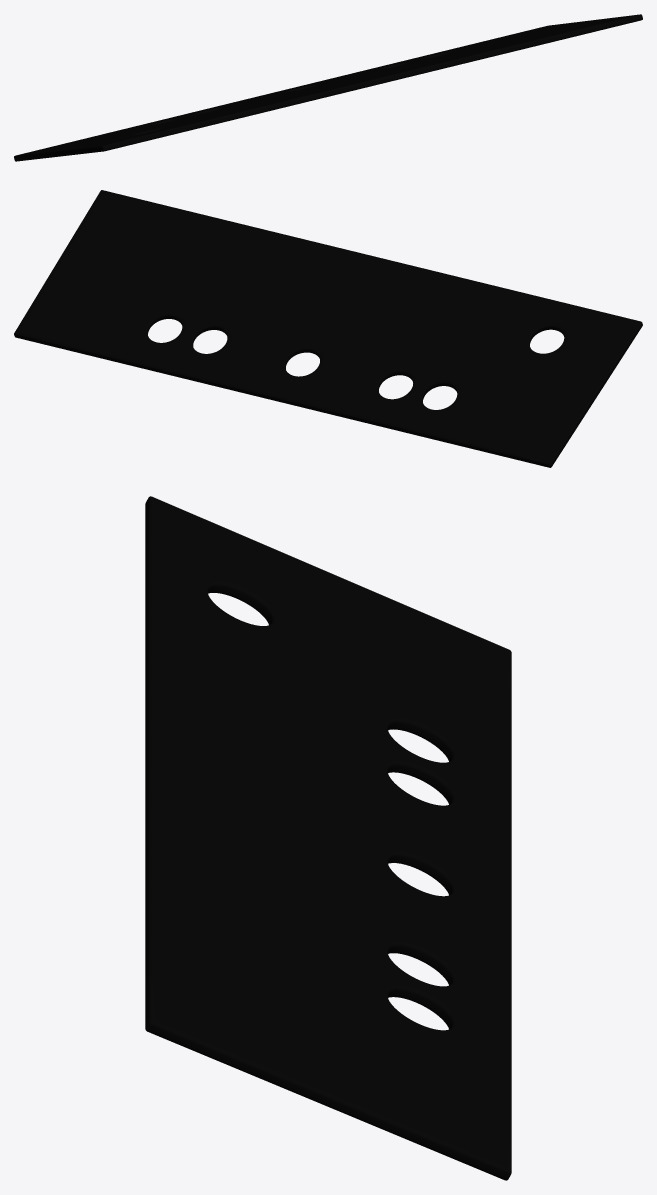
File: coffee_machine_main_group_main_model_9.obj
The picture shows the model from 3 angles, top to bottom: view 1: azimuth 30°, elevation 25°; view 2: azimuth 150°, elevation 25°; view 3: azimuth 270°, elevation 25°; orthographic projection. The views are drawn at different scales.
Size of the model in its own units: 0.6352 by 0.0912 by 0.1866.
1 material, 1 textured.
